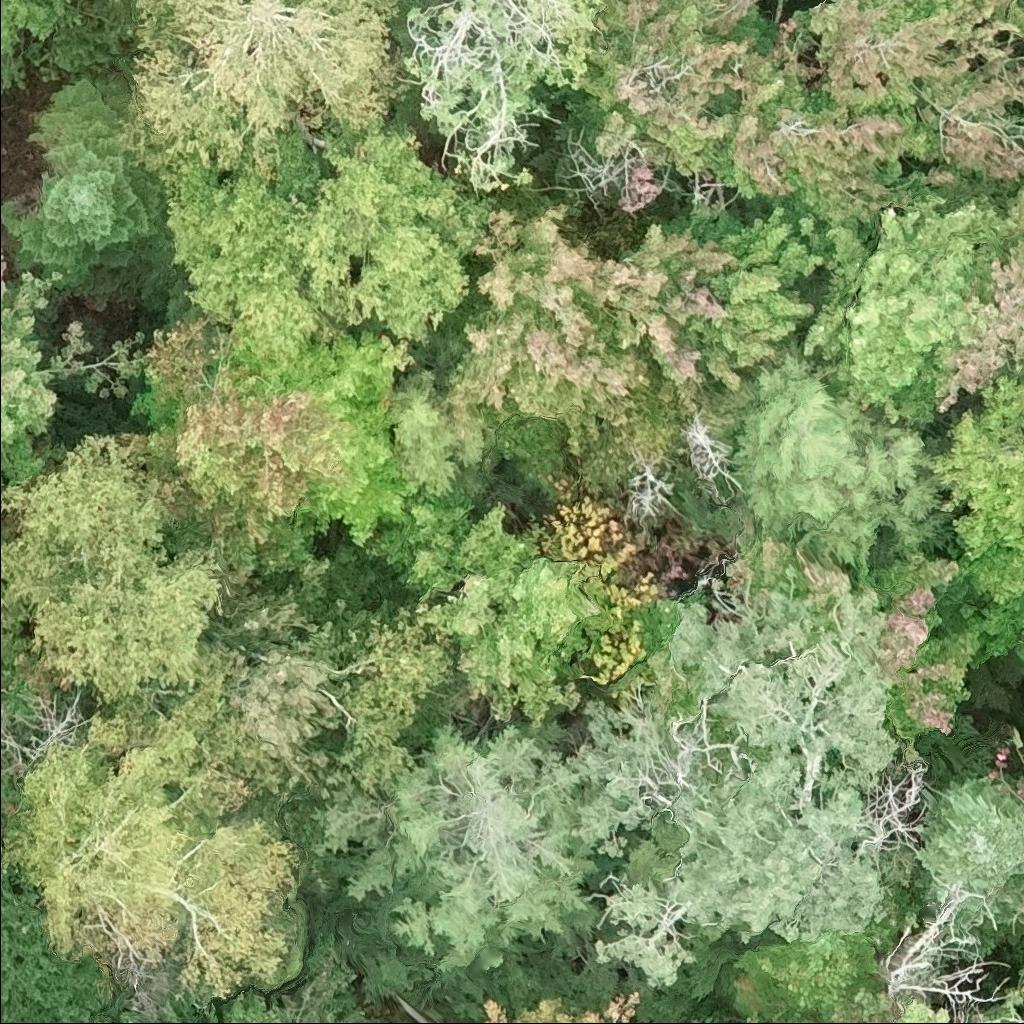crown: (517, 566, 907, 989), (426, 201, 830, 461), (5, 648, 295, 995), (307, 717, 604, 1018), (155, 119, 494, 376), (565, 0, 930, 236), (128, 310, 415, 590), (0, 429, 226, 702), (798, 175, 1023, 432), (114, 0, 410, 181), (723, 536, 982, 739), (728, 347, 956, 577), (788, 0, 1023, 189), (0, 72, 170, 290), (402, 554, 613, 728), (925, 372, 1023, 667), (330, 615, 462, 794), (360, 486, 544, 601), (220, 642, 344, 787), (935, 238, 1023, 413), (915, 771, 1023, 911), (385, 366, 486, 503), (733, 932, 885, 1023), (0, 248, 65, 445), (780, 987, 958, 1023), (478, 991, 640, 1023), (91, 1017, 120, 1023), (643, 1022, 680, 1023), (0, 525, 3, 536), (0, 117, 3, 124)
